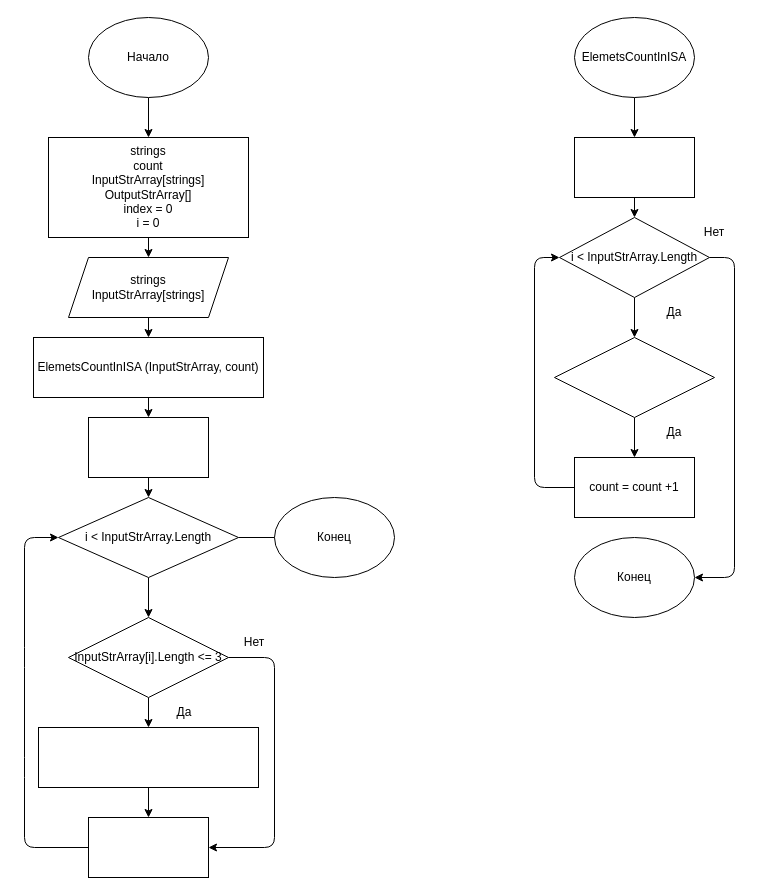
Image size: 762x895. Some labels were removed from this diagram. Here are the shapes that lost their labels. From the top down, the centre of each, then its label:
At (x=634, y=167): "InputStrArray[strings] index = 0 count = 0".
At (x=634, y=377): "InputStrArray[i].Length < 3".
At (x=148, y=447): "OutputStrArray[count]".
At (x=148, y=757): "OutputStrArray[index] = InputStrArray[i] index = index + 1".
At (x=148, y=847): "i = i + 1".
